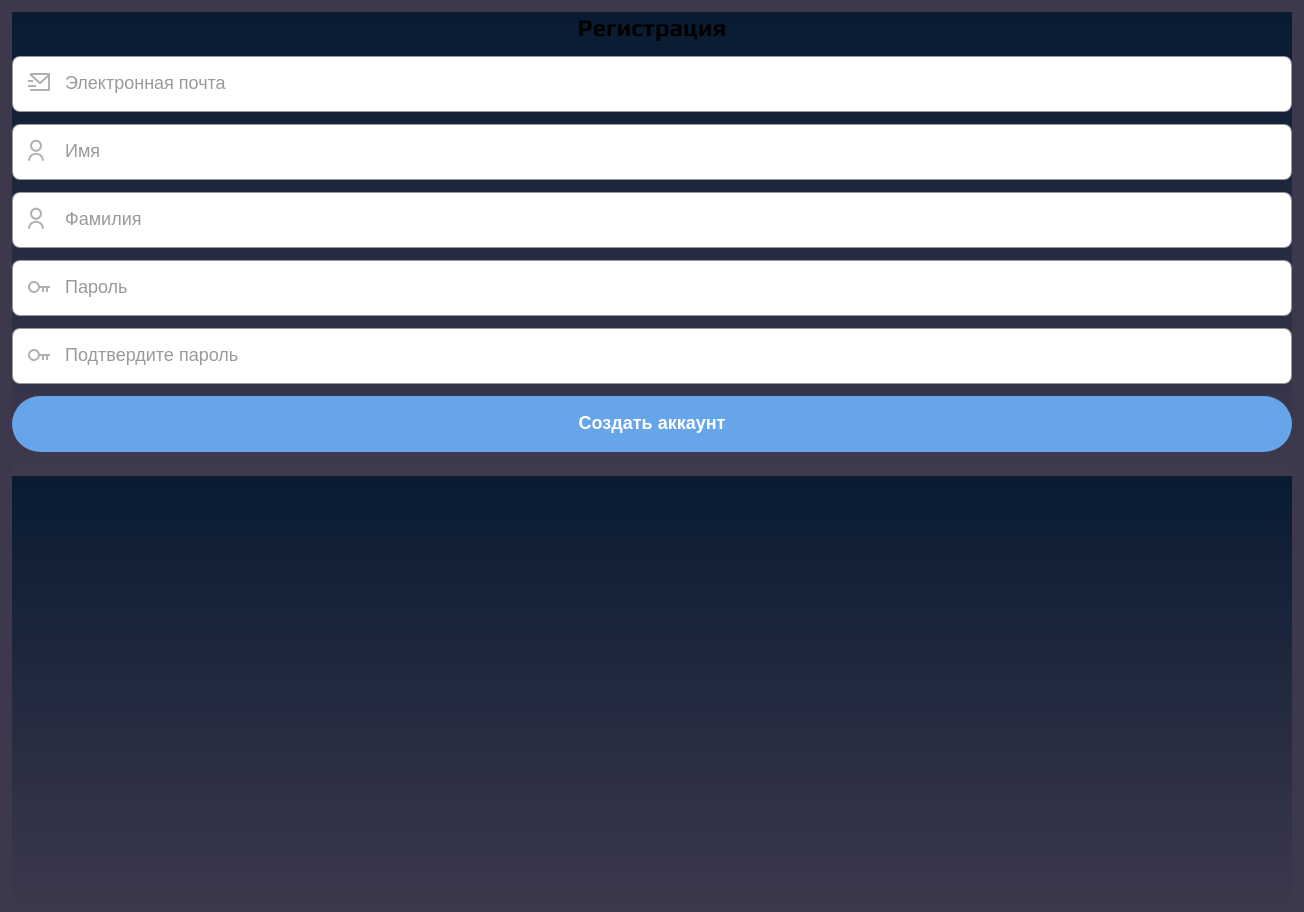
Scenario: RegisterForm › shows validation error for invalid name
This screenshot has width=1304, height=912.
In the field with placeholder "Электронная почта": (652, 84) [12,56,1292,112], type "test@example.com"
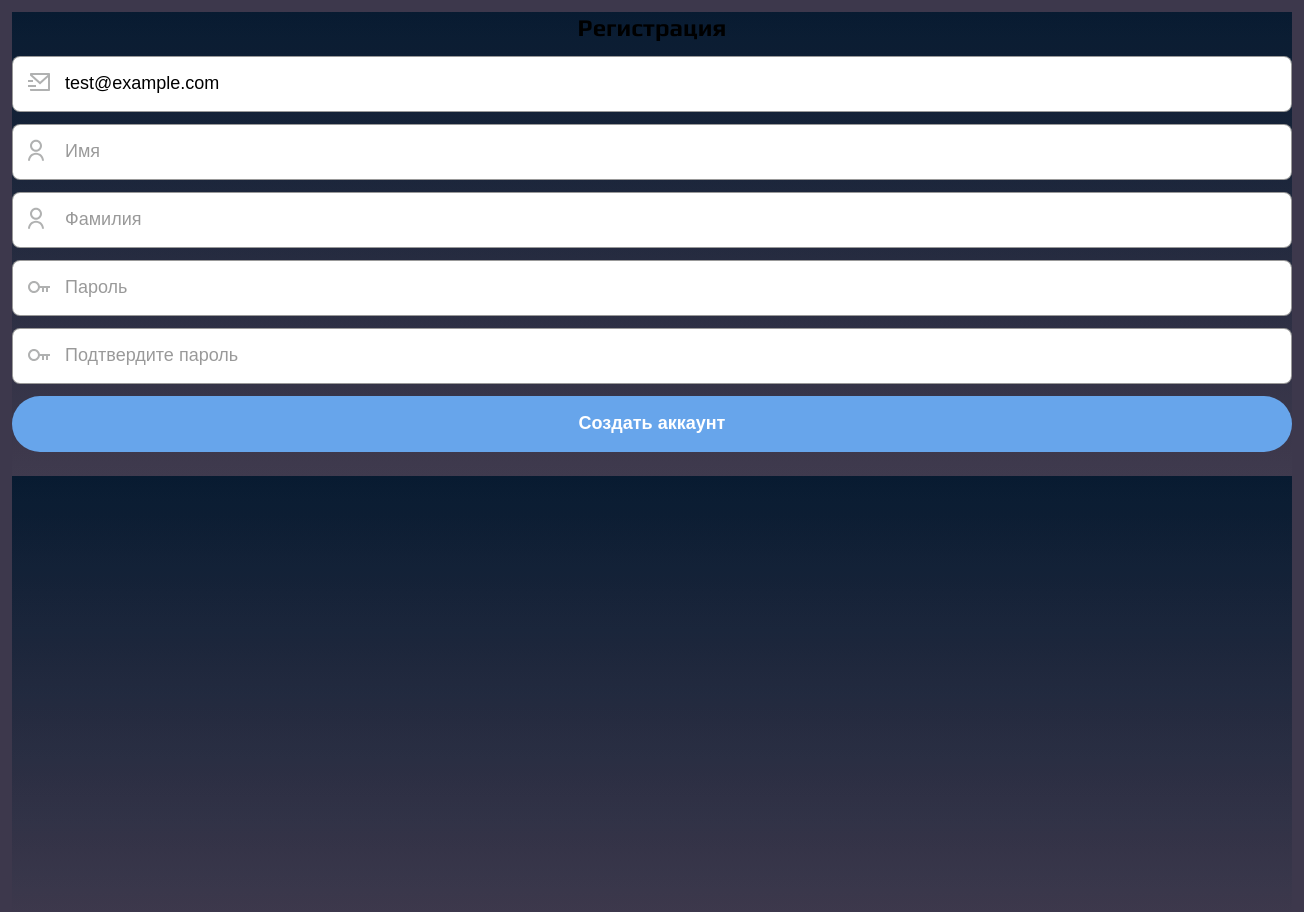
In the field with placeholder "Имя": (652, 152) [12,124,1292,180], type "John123"
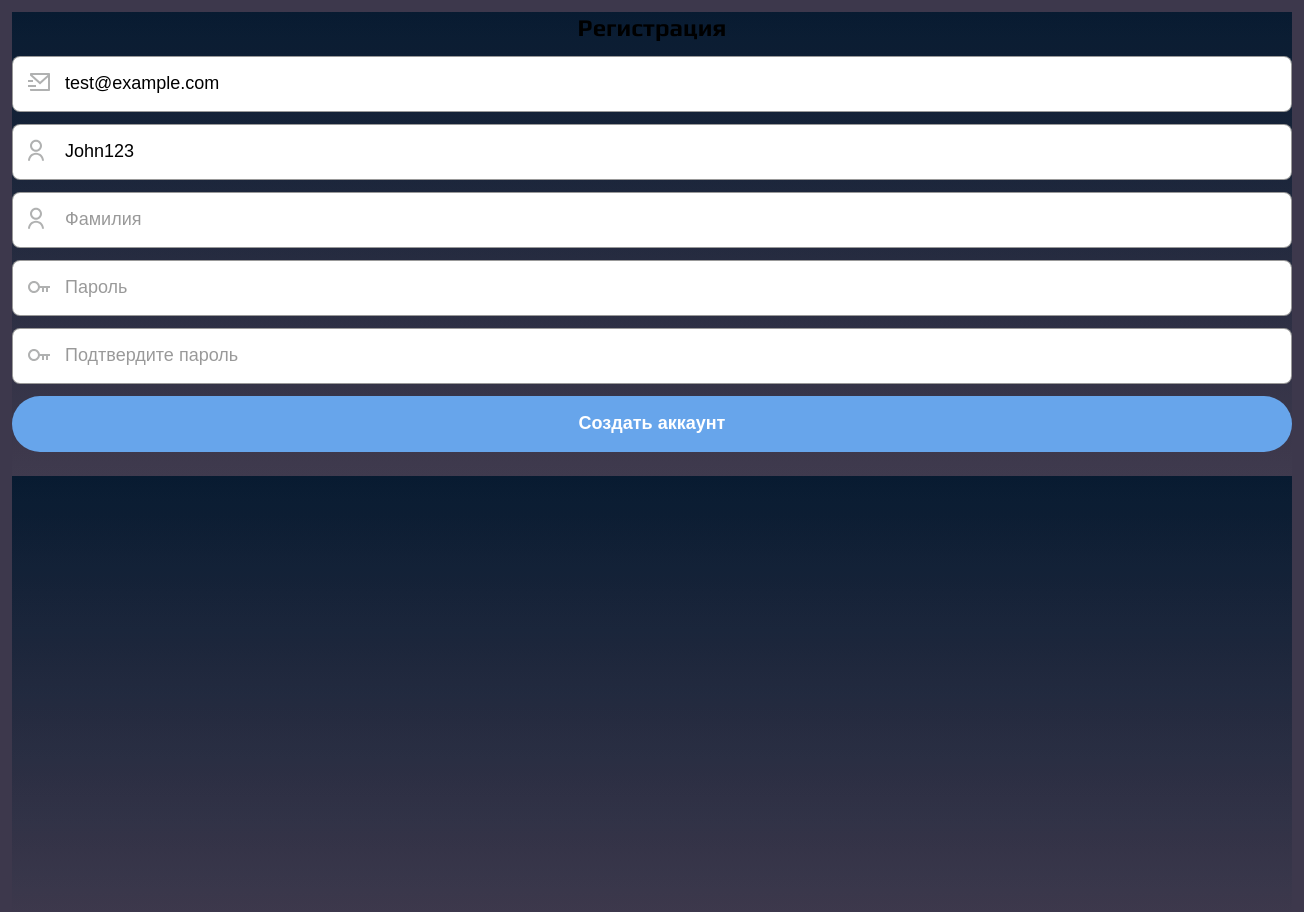
In the field with placeholder "Фамилия": (652, 220) [12,192,1292,248], type "Doe"
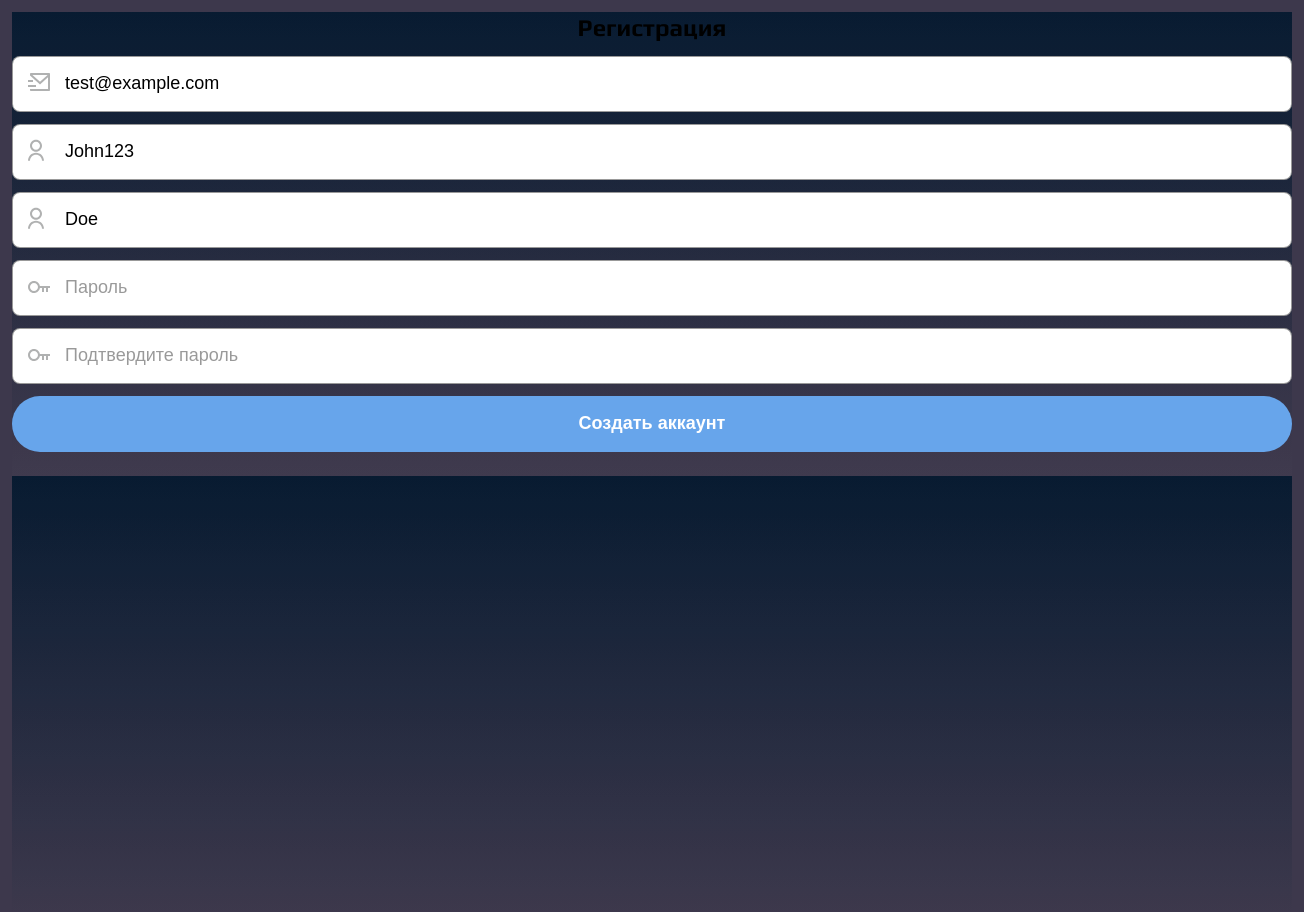
In the password field with placeholder "Пароль": (652, 288) [12,260,1292,316], type "password123"
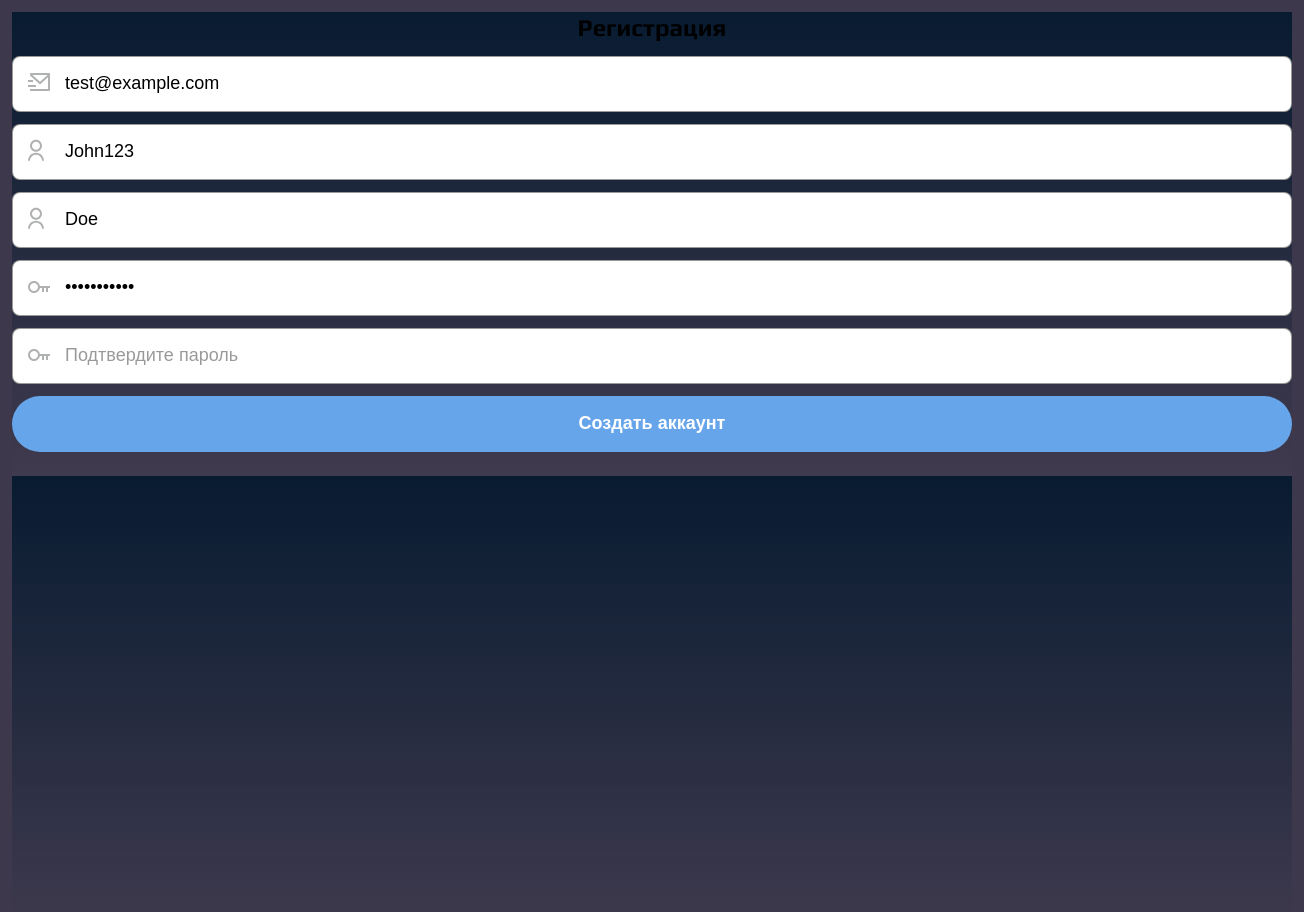
In the password field with placeholder "Подтвердите пароль": (652, 356) [12,328,1292,384], type "password123"
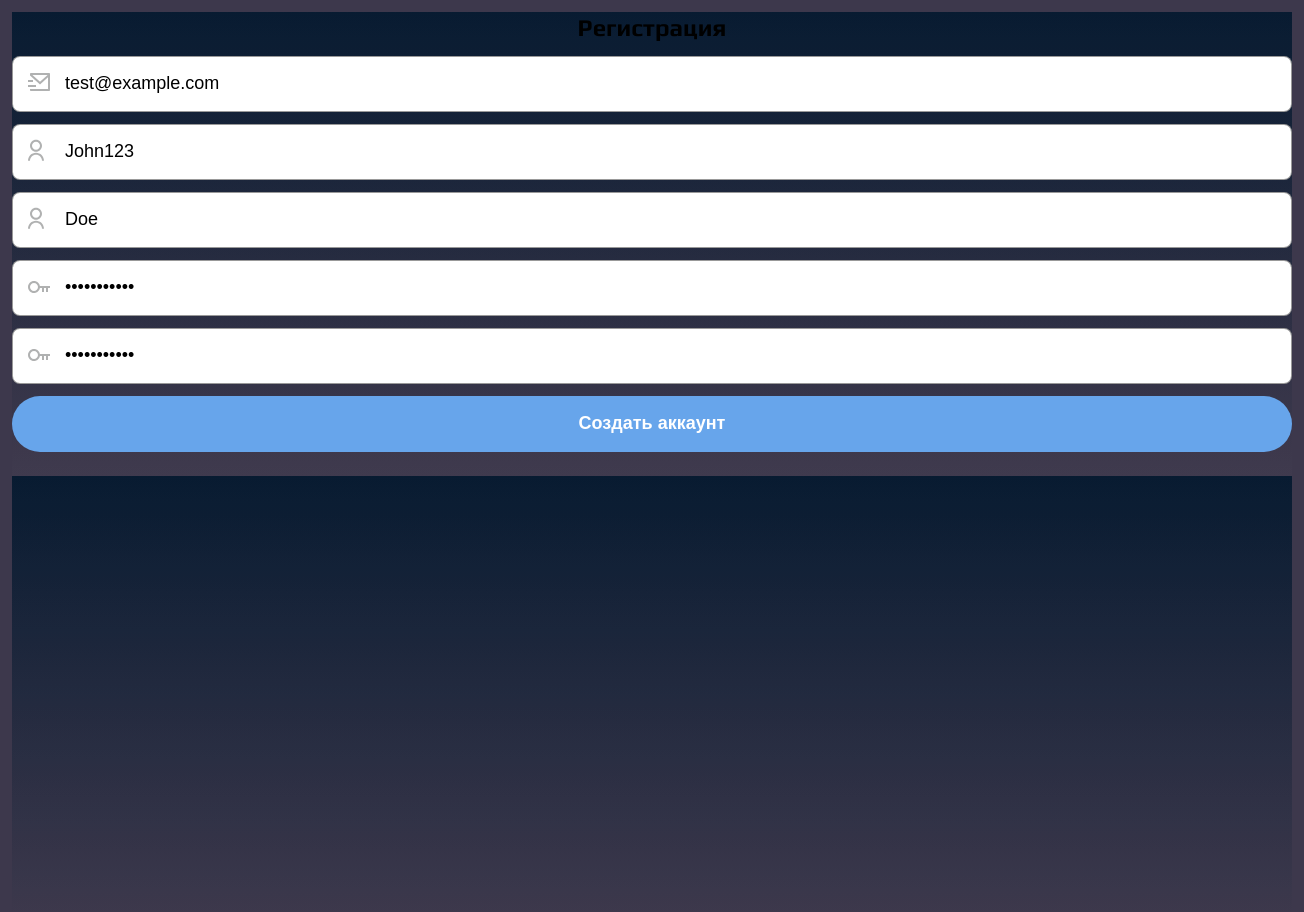
Click the button "Создать аккаунт": (652, 424) [12,396,1292,452]
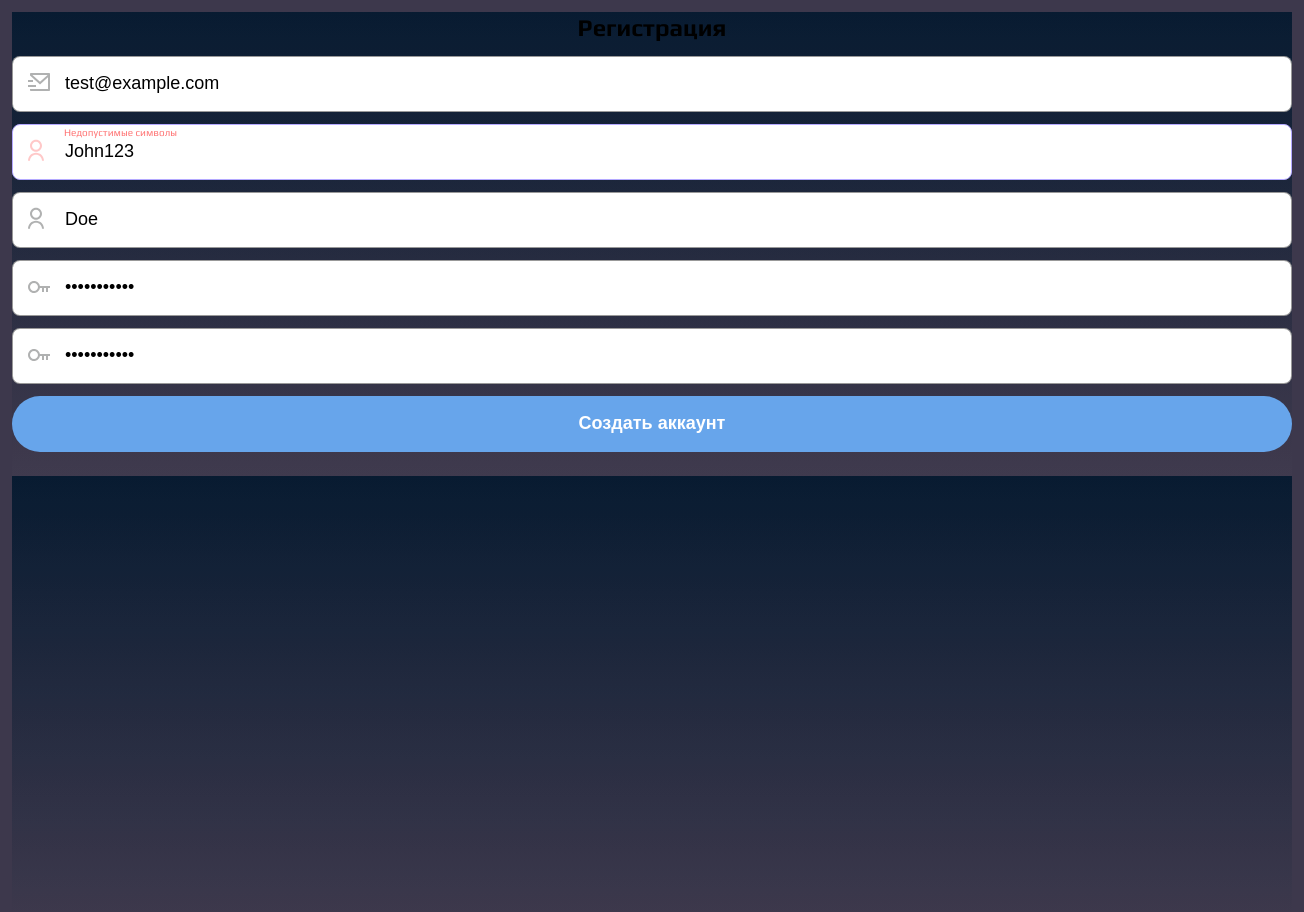
expect the text "Недопустимые символы" is shown: met, box [64,127,177,138]
